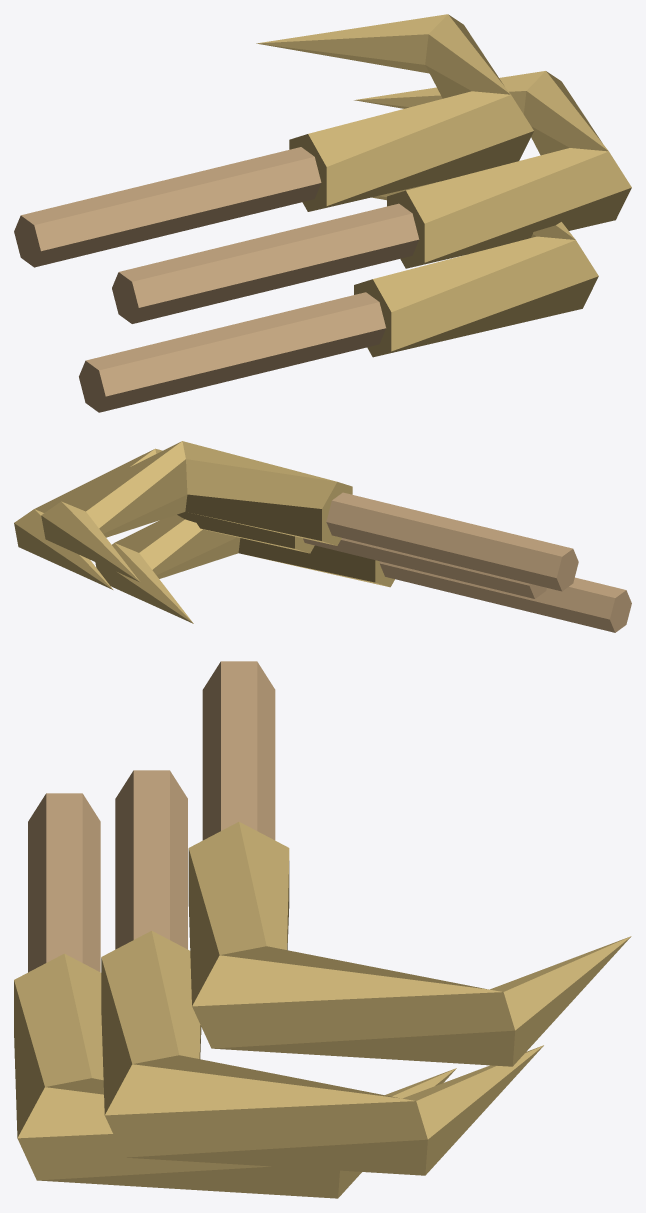
The model's file is item_084_bronze_sickle_m.glb.
3 views of the same model, one above another, from view 1: azimuth 30°, elevation 25°; view 2: azimuth 150°, elevation 25°; view 3: azimuth 270°, elevation 25° (orthographic). The views are drawn at different scales.
Visible parts, largest first — view 1: item_084_bronze_sickle_m; view 2: item_084_bronze_sickle_m; view 3: item_084_bronze_sickle_m.
Boxes of the visible parts, left/top/right/bottom form: item_084_bronze_sickle_m: left=14, top=14, right=631, bottom=412; item_084_bronze_sickle_m: left=14, top=441, right=631, bottom=632; item_084_bronze_sickle_m: left=14, top=661, right=631, bottom=1198.
Bounding box in the file's own units: 0.6464 × 0.18 × 0.4246.
